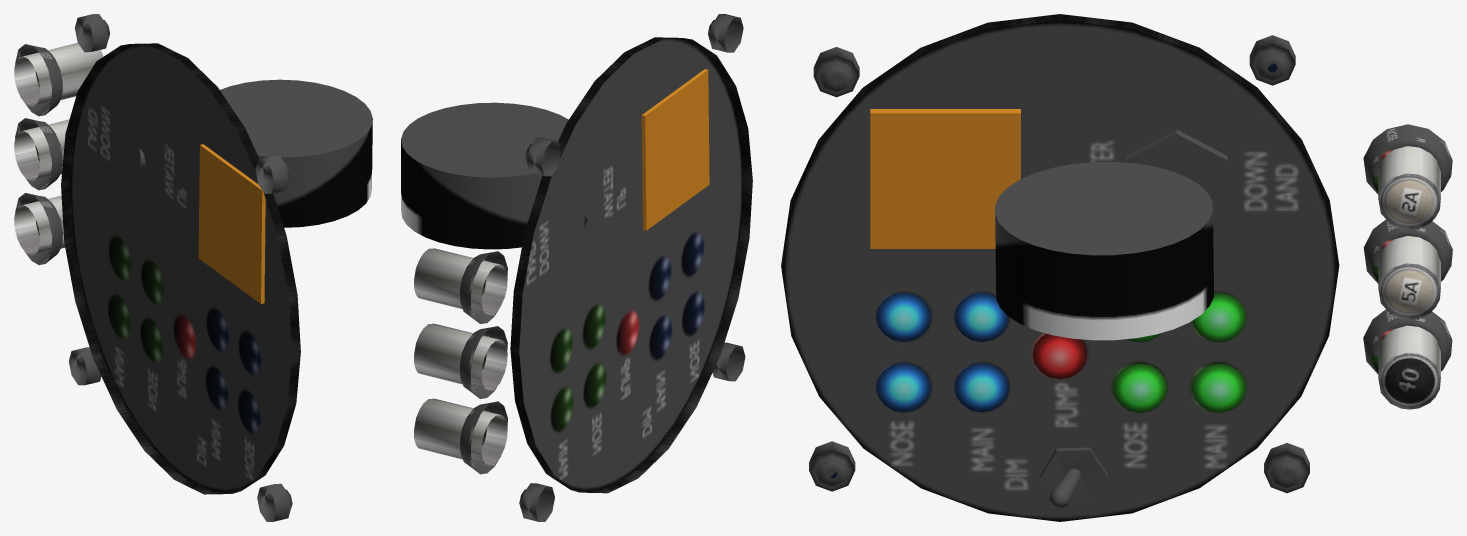
Rendered from pontoon-gear-ctrl.gltf.
3 renders of one model, left to right at view 1: azimuth 30°, elevation 25°; view 2: azimuth 150°, elevation 25°; view 3: azimuth 270°, elevation 25°, orthographic. The views are drawn at different scales.
Visible parts, largest first — view 1: GearFace, Gearswitch, GearAdvisory, GearScrews, breakers-base-hydr, gear_advise_breaker, gear_select_breaker, hydr_pump_breaker; view 2: GearFace, Gearswitch, GearAdvisory, GearScrews, gear_advise_breaker, gear_select_breaker, hydr_pump_breaker, breakers-base-hydr; view 3: GearFace, Gearswitch, GearAdvisory, GearScrews, breakers-base-hydr, gear_advise_breaker, gear_select_breaker, hydr_pump_breaker, Switch.nut, Dim.bezel, mainup1, noseup2 (+7 smaller).
Part boxes in pixels (left/top/right/bottom): GearFace: left=61, top=43, right=300, bottom=494; Gearswitch: left=139, top=79, right=372, bottom=227; GearAdvisory: left=198, top=144, right=265, bottom=303; GearScrews: left=69, top=14, right=292, bottom=521; breakers-base-hydr: left=15, top=44, right=62, bottom=264; gear_advise_breaker: left=14, top=43, right=103, bottom=107; gear_select_breaker: left=14, top=119, right=69, bottom=181; hydr_pump_breaker: left=14, top=195, right=65, bottom=255; GearFace: left=510, top=37, right=752, bottom=493; Gearswitch: left=401, top=102, right=587, bottom=249; GearAdvisory: left=641, top=69, right=709, bottom=230; GearScrews: left=519, top=14, right=745, bottom=521; gear_advise_breaker: left=414, top=248, right=507, bottom=315; gear_select_breaker: left=414, top=323, right=507, bottom=390; hydr_pump_breaker: left=414, top=398, right=507, bottom=465; breakers-base-hydr: left=459, top=251, right=507, bottom=474; GearFace: left=781, top=14, right=1339, bottom=521; Gearswitch: left=995, top=162, right=1213, bottom=340; GearAdvisory: left=870, top=109, right=1020, bottom=248; GearScrews: left=809, top=35, right=1309, bottom=493; breakers-base-hydr: left=1363, top=124, right=1452, bottom=374; gear_advise_breaker: left=1378, top=146, right=1440, bottom=229; gear_select_breaker: left=1378, top=236, right=1440, bottom=319; hydr_pump_breaker: left=1378, top=325, right=1440, bottom=409; Switch.nut: left=1125, top=129, right=1227, bottom=220; Dim.bezel: left=1040, top=447, right=1107, bottom=503; mainup1: left=954, top=363, right=1009, bottom=412; noseup2: left=876, top=292, right=930, bottom=341.
Bounding box in the file's own units: 0.0472 × 0.0915 × 0.1101.
3 materials, 2 textured.
